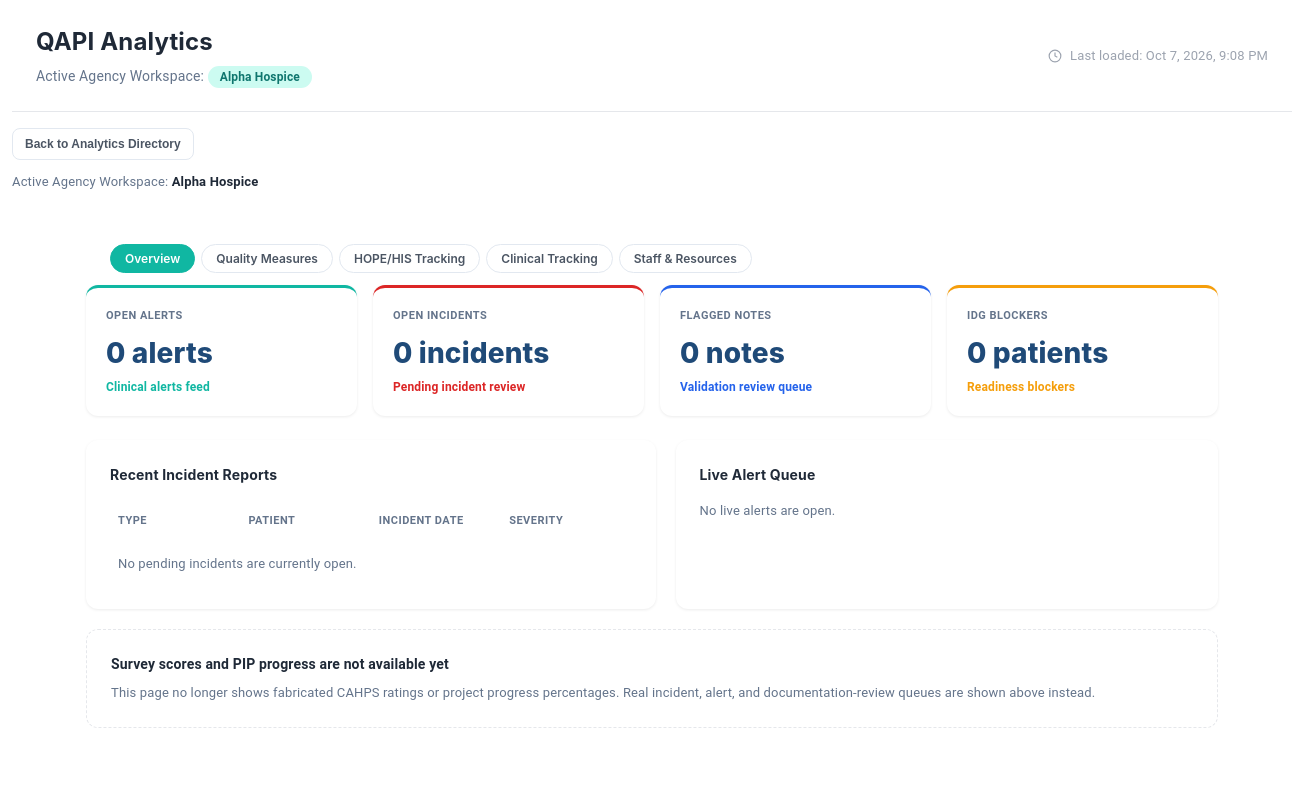
Test: SNSAnalytics › shows the QAPI honest-empty-state and no-fabrication messaging
This screenshot has width=1292, height=800.
Expected: the text "Recent Incident Reports" is shown, [110,466,277,483]
Expected: the text "No pending incidents are currently open." is shown, [110,542,632,585]
Click the button "Quality Measures" at coordinates (267, 258), box [201,244,333,272]
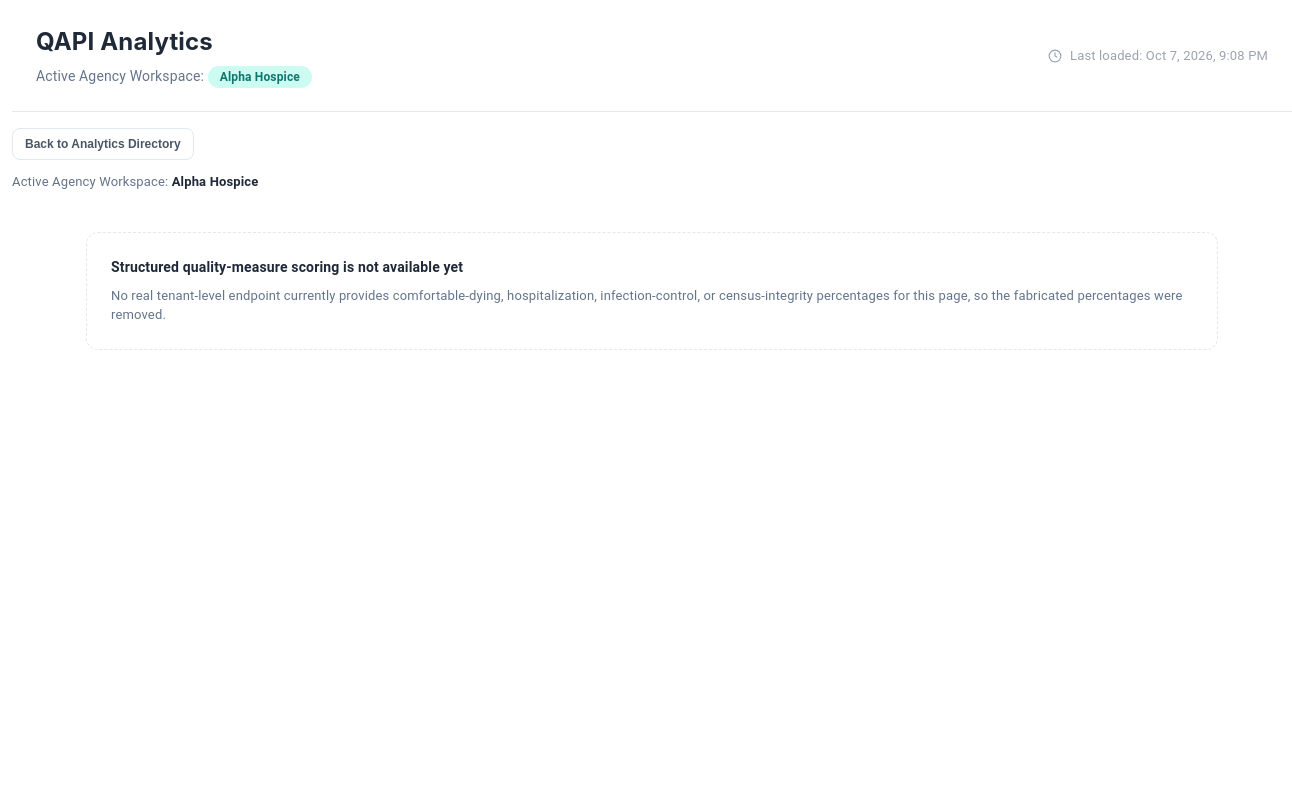
Expected: the text "Structured quality-measure scoring is not available yet" is shown, [111,258,463,274]
